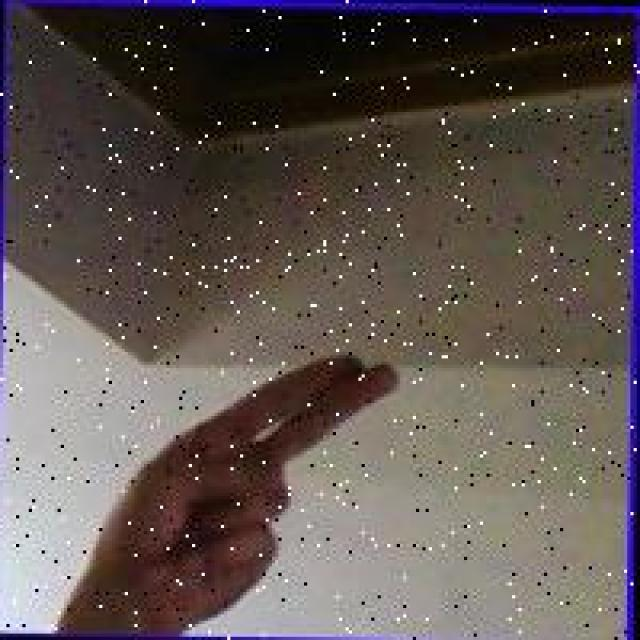H: (80, 342, 403, 637)
